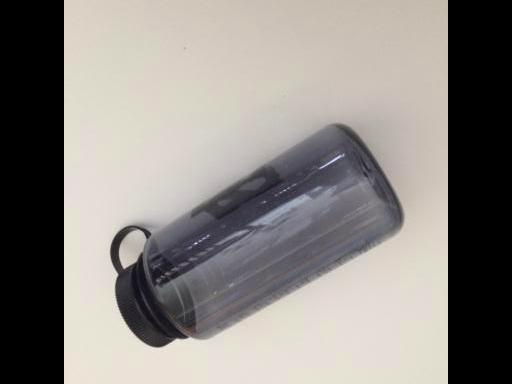TRITAN: (109, 122, 404, 348)
plastic: (109, 122, 404, 348)
